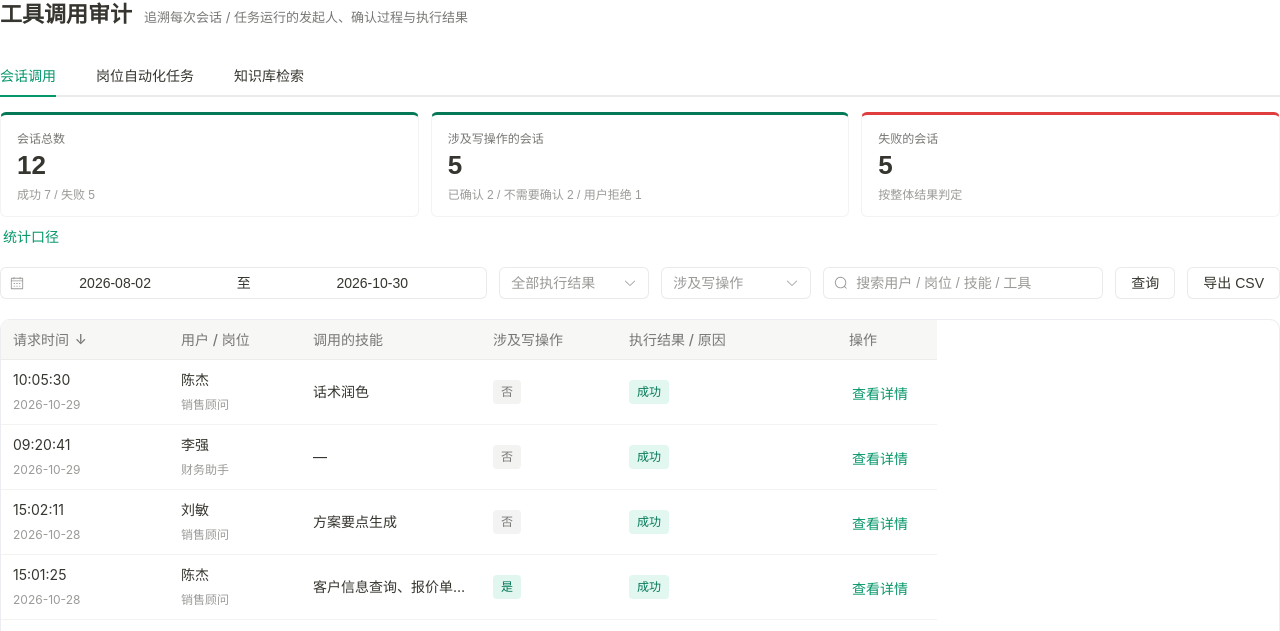
Scenario: 文案与颜色逐字对 md（#92 ②⑦⑧⑨④） › 任务先失败后重试成功（T-2011）：列表行结果「成功」且不展示失败原因，失败细节只在详情里（§一「记录单元」）
The width and height of the screenshot is (1280, 631).
Click the tab "岗位自动化任务" at (145, 76), box [96,67,194,84]
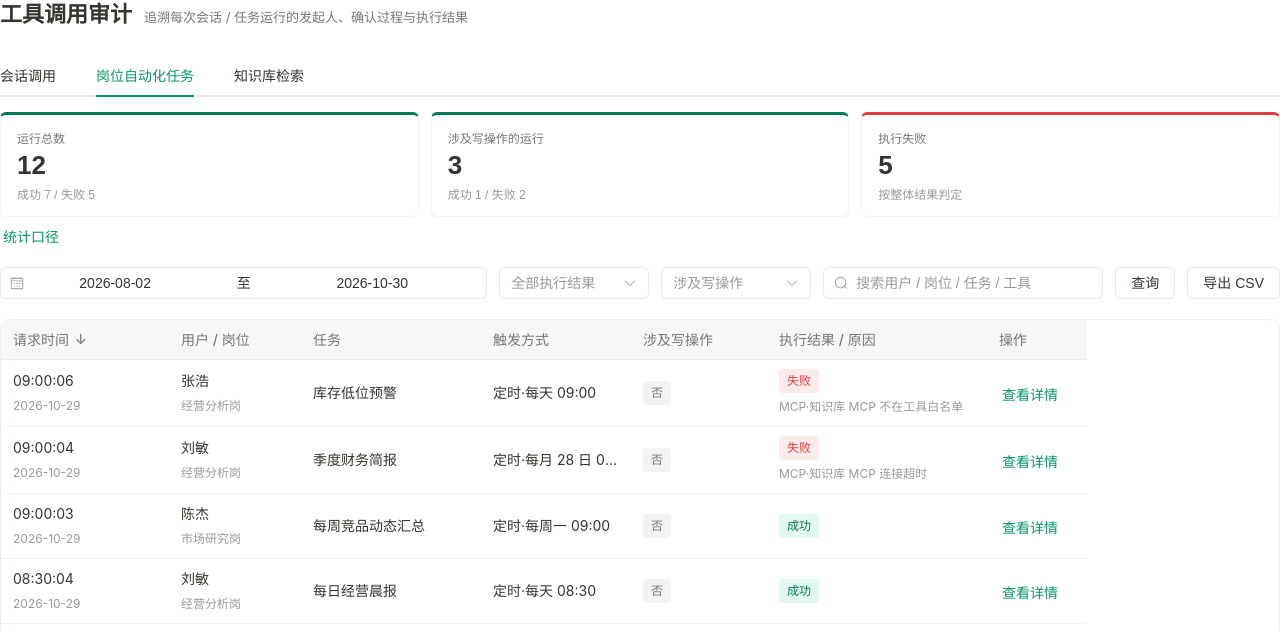
Type "T-2011" into the field with placeholder "搜索用户 / 岗位 / 任务 / 工具" at (974, 283), box [856,268,1092,298]
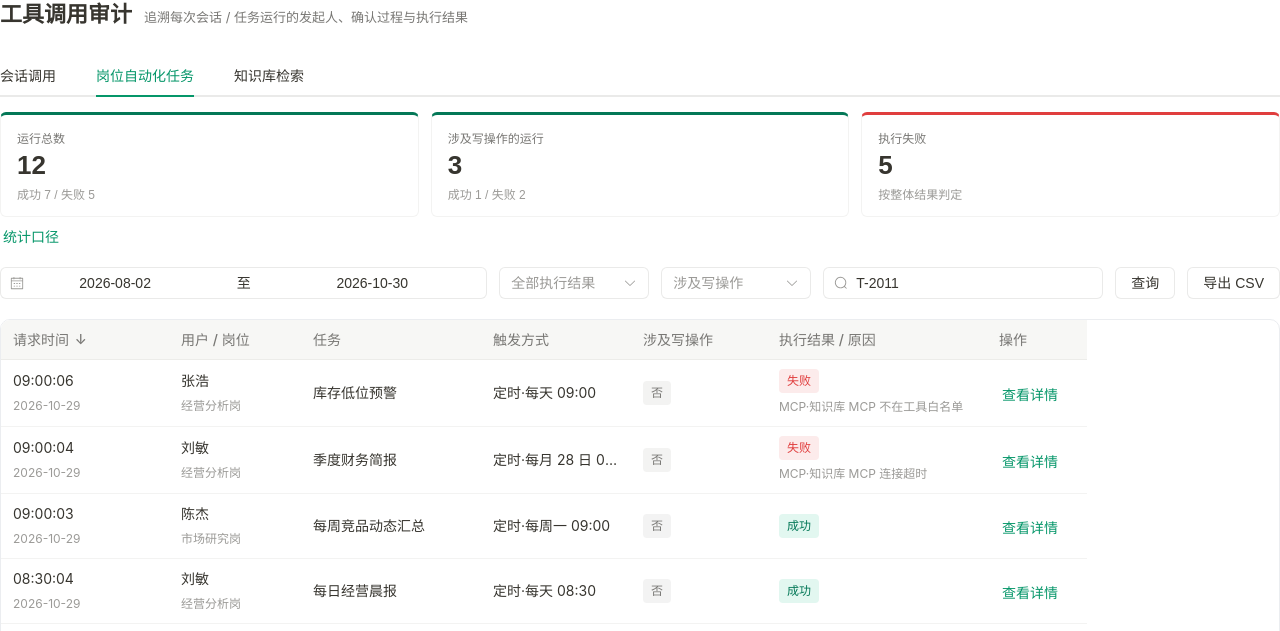
Press Enter in the field, box [856,268,1092,298]
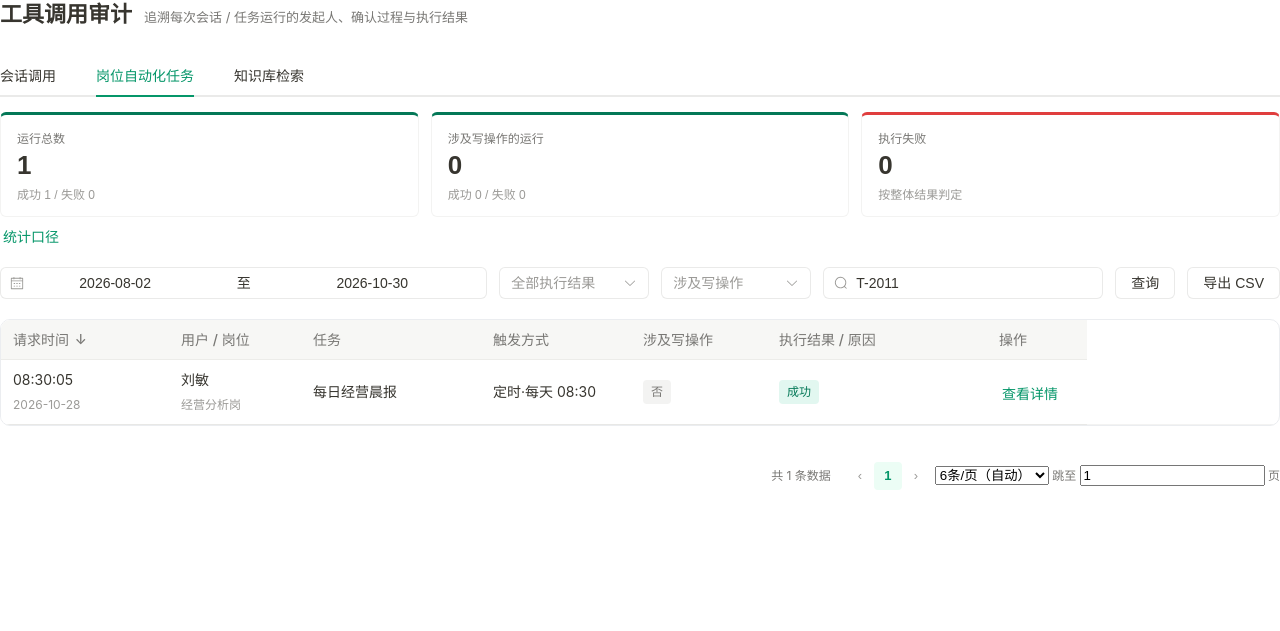
Click the button "查看详情" at (1030, 394), box [999,384,1061,404]
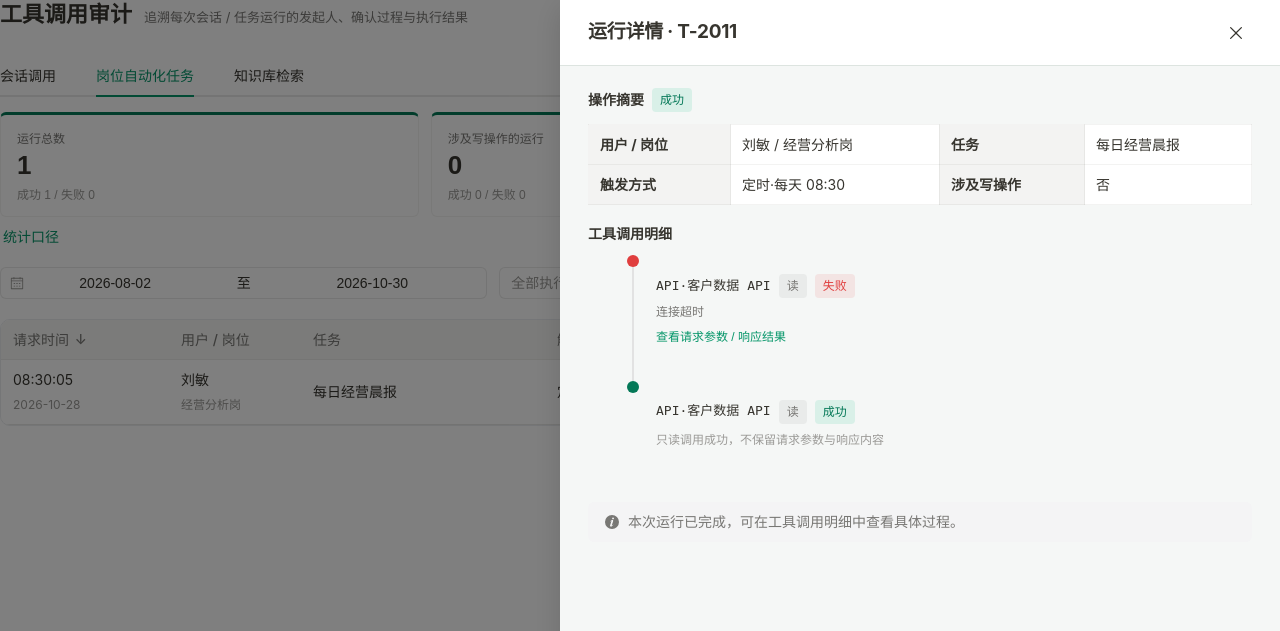
Check: the text "失败" is not shown
Check: the row "08:30:05 2026-10-28 刘敏 经营分析岗 每日经营晨报 定时·每天 08:30 否 成功 查看详情" is shown, box [1,360,1279,425]
Check: the element with class "call-item" shows "连接超时", box [656,304,704,319]
